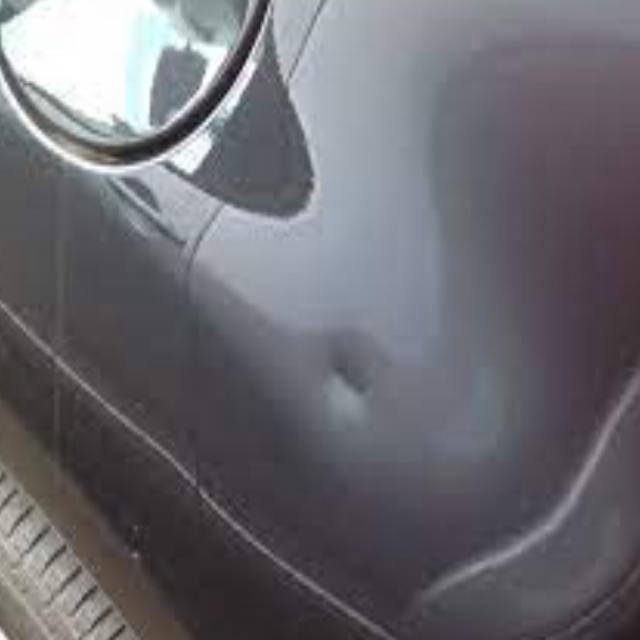dents: (318, 319, 426, 443)
